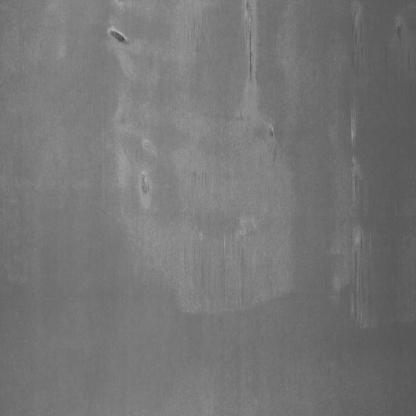rolled_pit: (96, 19, 140, 71)
